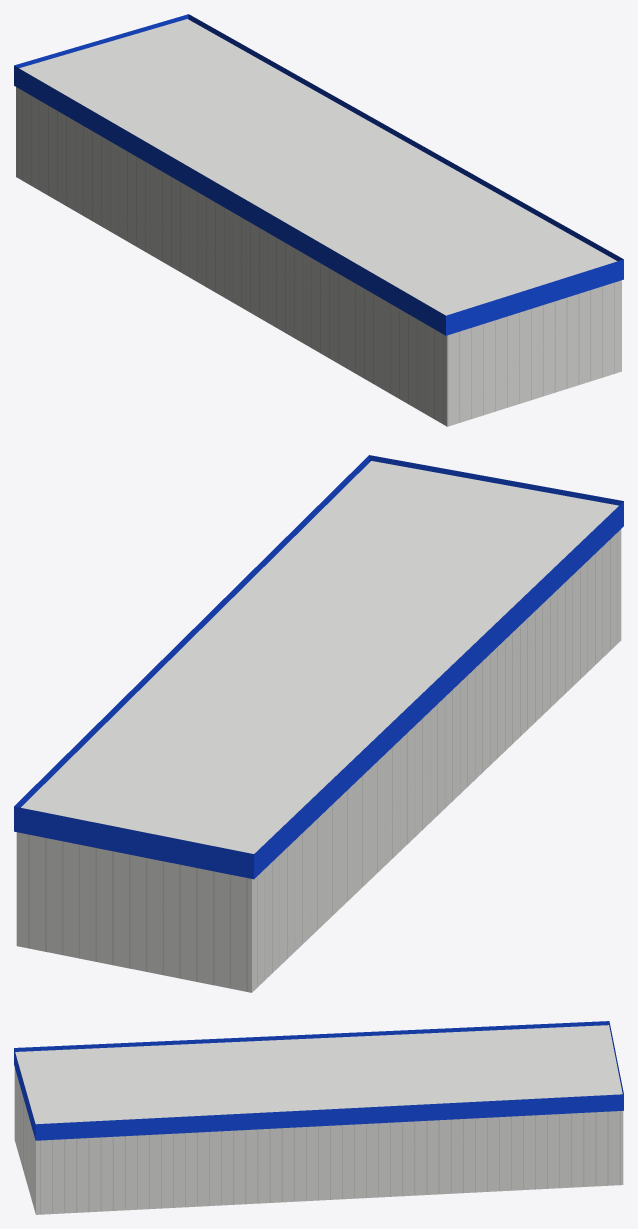
Rendered from stg.glb.
3 views of the same model, one above another, from view 1: azimuth 30°, elevation 25°; view 2: azimuth 150°, elevation 25°; view 3: azimuth 270°, elevation 25° (orthographic). The views are drawn at different scales.
Visible parts, largest first — view 1: stg roof, stg walls, stg eave band; view 2: stg roof, stg walls, stg eave band; view 3: stg walls, stg roof, stg eave band.
Boxes of the visible parts, x1,y1,x2,y2 form: stg roof: [19, 19, 617, 315]; stg walls: [16, 87, 621, 426]; stg eave band: [14, 14, 623, 335]; stg roof: [21, 461, 618, 853]; stg walls: [16, 529, 621, 992]; stg eave band: [14, 455, 623, 879]; stg walls: [14, 1067, 623, 1214]; stg roof: [15, 1025, 622, 1124]; stg eave band: [14, 1021, 623, 1140].
Bounding box in the file's own units: 20.08 × 8.3 × 50.17.
3 materials, 1 textured.
